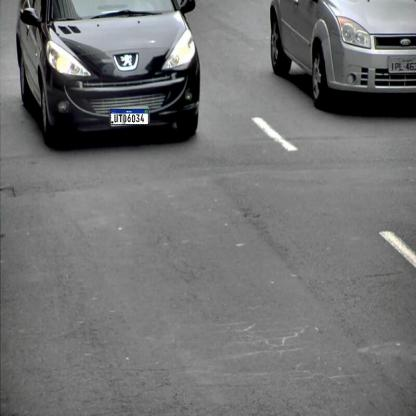PlacaM: (110, 109, 149, 125)
